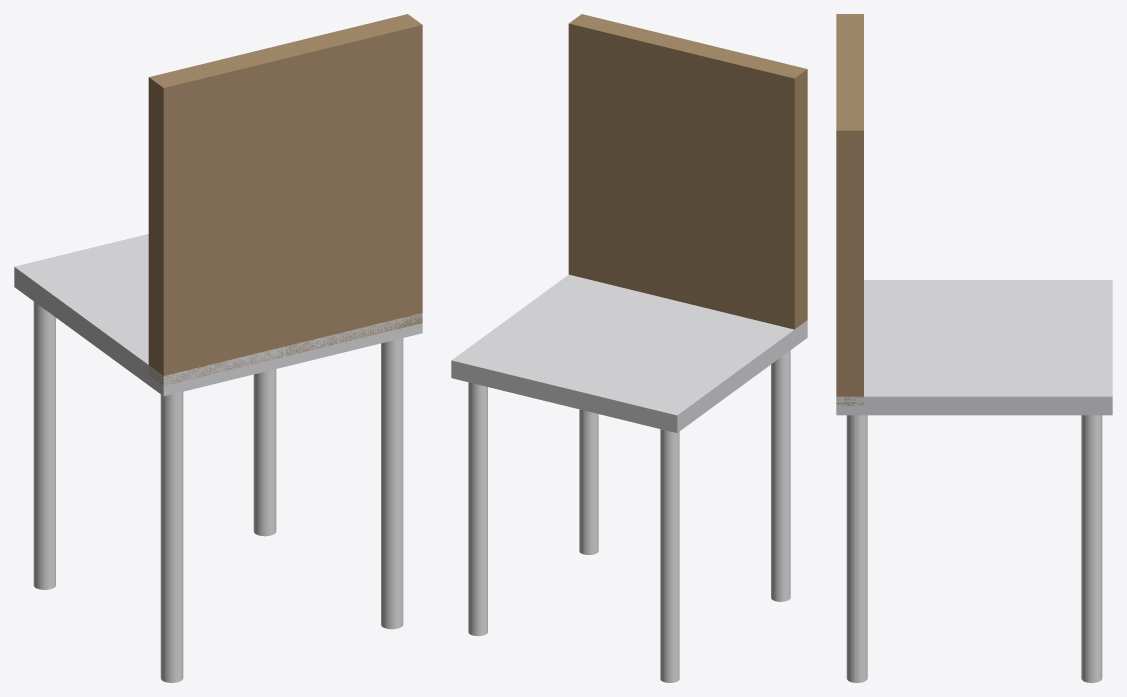
File: chair.glb
The picture shows the model from 3 angles, left to right: view 1: azimuth 30°, elevation 25°; view 2: azimuth 150°, elevation 25°; view 3: azimuth 270°, elevation 25°; orthographic projection. The views are drawn at different scales.
Parts seen in each view (by area): view 1: ChairBack_Asset, ChairSeat_Asset, ChairLeg_Asset, ChairLeg_Asset.002, ChairLeg_Asset.001, ChairLeg_Asset.003; view 2: ChairBack_Asset, ChairSeat_Asset, ChairLeg_Asset.001, ChairLeg_Asset.003, ChairLeg_Asset, ChairLeg_Asset.002; view 3: ChairSeat_Asset, ChairBack_Asset, ChairLeg_Asset.002, ChairLeg_Asset.003.
Part boxes in pixels (x1,y1,x2,y2): ChairBack_Asset: (148,14,422,385); ChairSeat_Asset: (14,234,422,396); ChairLeg_Asset: (160,392,183,682); ChairLeg_Asset.002: (381,338,403,629); ChairLeg_Asset.001: (33,301,55,589); ChairLeg_Asset.003: (253,369,276,536); ChairBack_Asset: (568,14,807,329); ChairSeat_Asset: (451,274,807,432); ChairLeg_Asset.001: (660,429,679,682); ChairLeg_Asset.003: (468,382,487,636); ChairLeg_Asset: (771,350,790,601); ChairLeg_Asset.002: (579,409,598,554); ChairSeat_Asset: (836,280,1112,415); ChairBack_Asset: (836,14,863,405); ChairLeg_Asset.002: (846,415,867,682); ChairLeg_Asset.003: (1081,415,1102,682).
Bounding box in the file's own units: 0.4 × 0.89 × 0.4.
